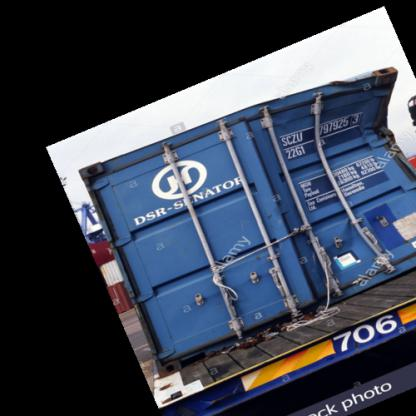Damage: (250, 67, 414, 279)
